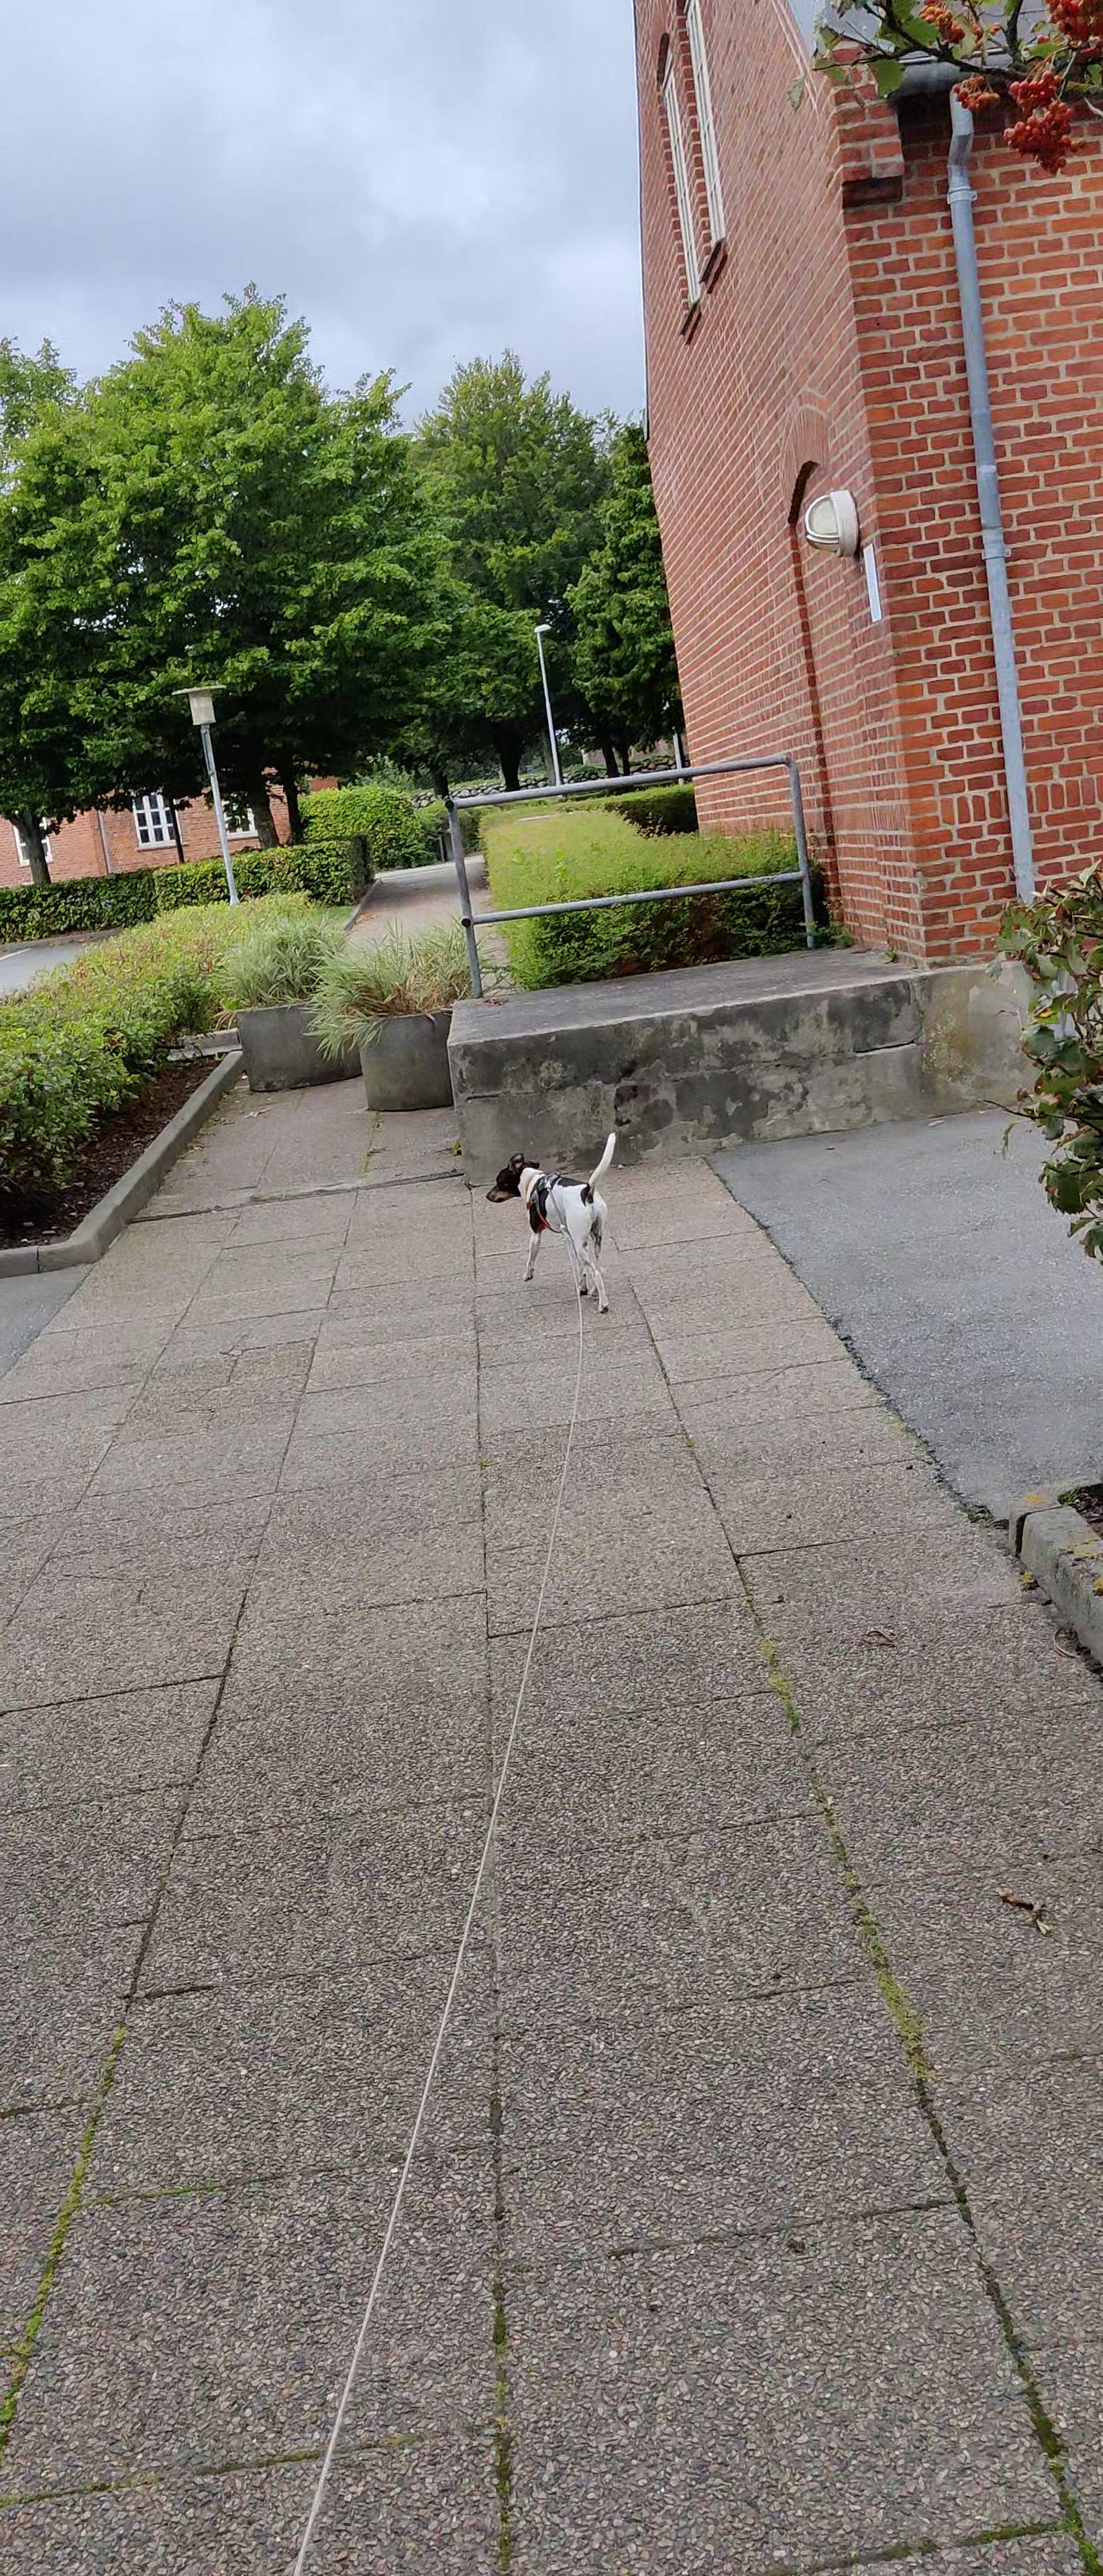Dog: (482, 1122, 630, 1324)
